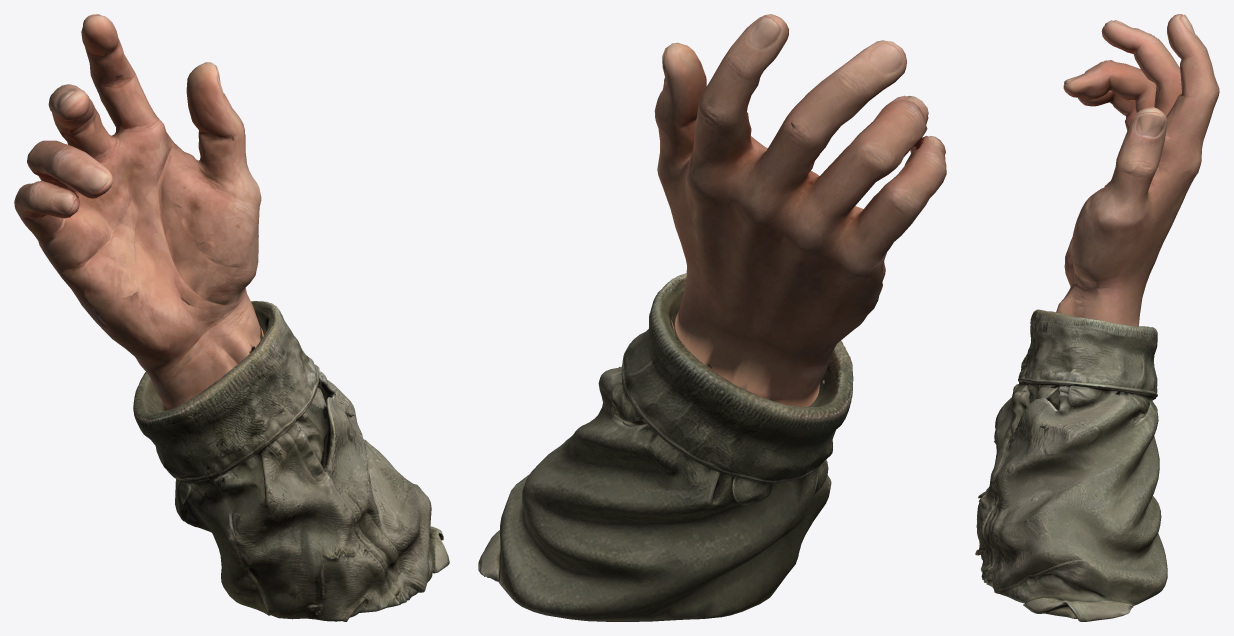
Rendered from hand.glb.
3 renders of one model, left to right at view 1: azimuth 30°, elevation 25°; view 2: azimuth 150°, elevation 25°; view 3: azimuth 270°, elevation 25°, orthographic. The views are drawn at different scales.
Visible parts, largest first — view 1: tripo_node_513db49b-e570-4463-9c15-5dda91229da8; view 2: tripo_node_513db49b-e570-4463-9c15-5dda91229da8; view 3: tripo_node_513db49b-e570-4463-9c15-5dda91229da8.
Boxes of the visible parts, bbox=[...] form: tripo_node_513db49b-e570-4463-9c15-5dda91229da8: bbox=[14, 14, 449, 621]; tripo_node_513db49b-e570-4463-9c15-5dda91229da8: bbox=[478, 14, 946, 621]; tripo_node_513db49b-e570-4463-9c15-5dda91229da8: bbox=[975, 14, 1219, 621].
Bounding box in the file's own units: 0.7349 × 0.981 × 0.4494.
1 material, 1 textured.
